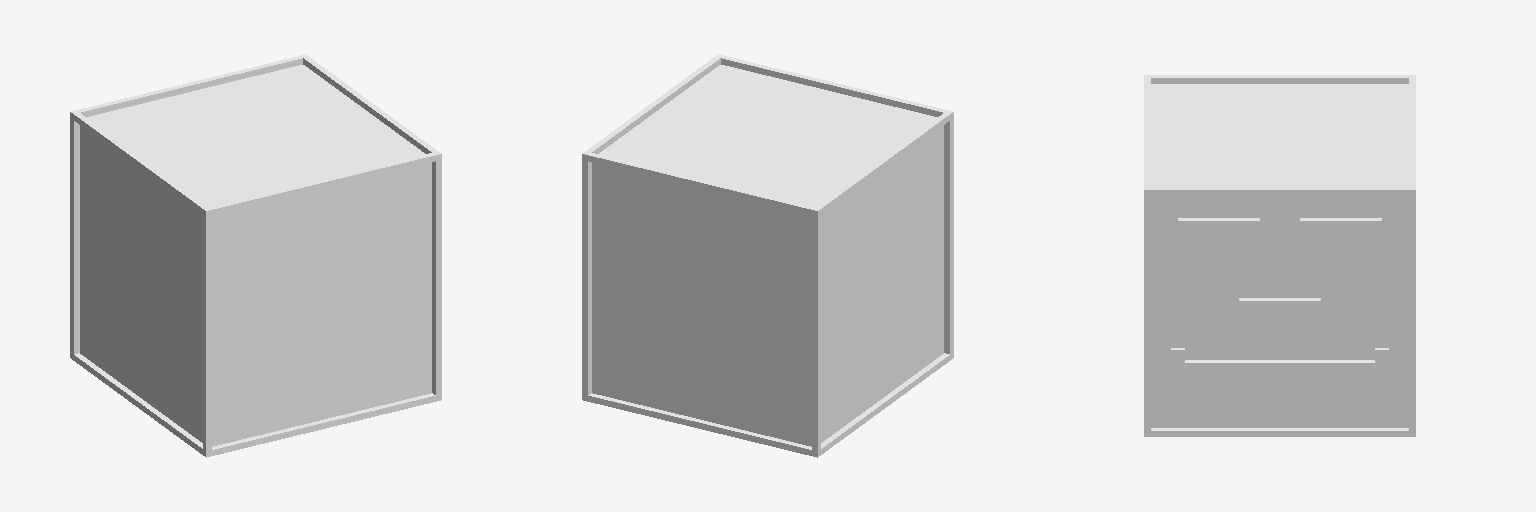
Rendered from BlockPartyAvatar.obj.
3 renders of one model, left to right at view 1: azimuth 30°, elevation 25°; view 2: azimuth 150°, elevation 25°; view 3: azimuth 270°, elevation 25°, orthographic.
Parts seen in each view (by area): view 1: BlockPartyAvatar; view 2: BlockPartyAvatar; view 3: BlockPartyAvatar.
Part boxes in pixels (left/top/right/bottom): BlockPartyAvatar: left=70, top=54, right=441, bottom=457; BlockPartyAvatar: left=582, top=54, right=953, bottom=457; BlockPartyAvatar: left=1144, top=75, right=1415, bottom=436.
Size of the model in its own units: 40 by 40 by 40.